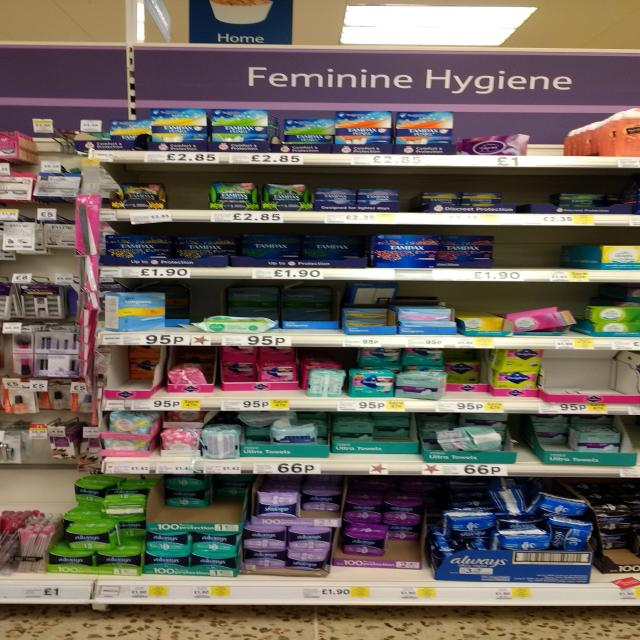empty: (545, 351, 635, 401), (495, 232, 589, 266), (520, 110, 594, 152), (164, 177, 213, 214)
